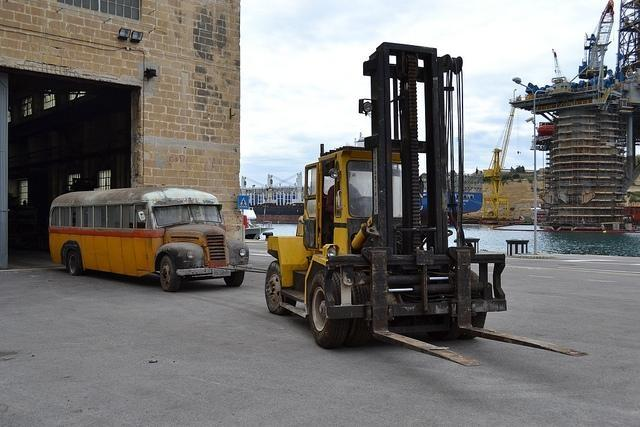bus: (48, 189, 251, 291)
